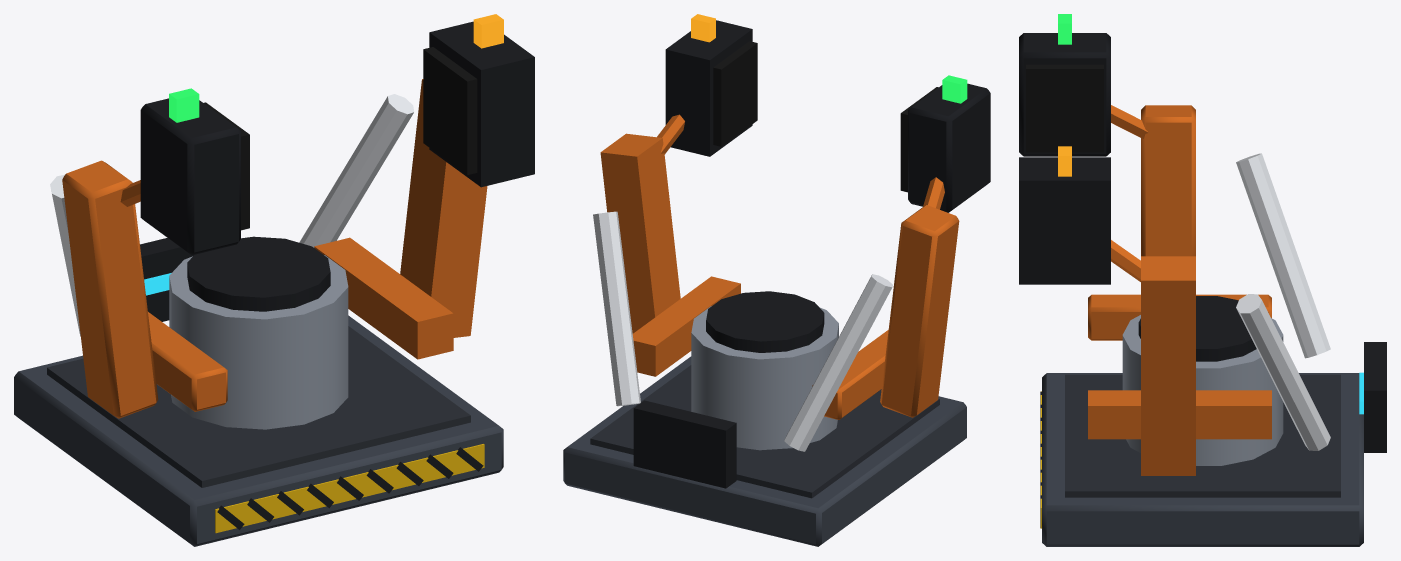
Rendered from hangartool_docking_clamp.glb.
The picture shows the model from 3 angles, left to right: view 1: azimuth 30°, elevation 25°; view 2: azimuth 150°, elevation 25°; view 3: azimuth 270°, elevation 25°; orthographic projection. The views are drawn at different scales.
Visible parts, largest first — view 1: hangartool_docking_clamp; view 2: hangartool_docking_clamp; view 3: hangartool_docking_clamp.
Boxes of the visible parts, x1=… form: hangartool_docking_clamp: x1=14, y1=14, x2=534, y2=546; hangartool_docking_clamp: x1=563, y1=14, x2=990, y2=546; hangartool_docking_clamp: x1=1019, y1=14, x2=1386, y2=546.
Size of the model in its own units: 1.82 by 1.9 by 1.6.
